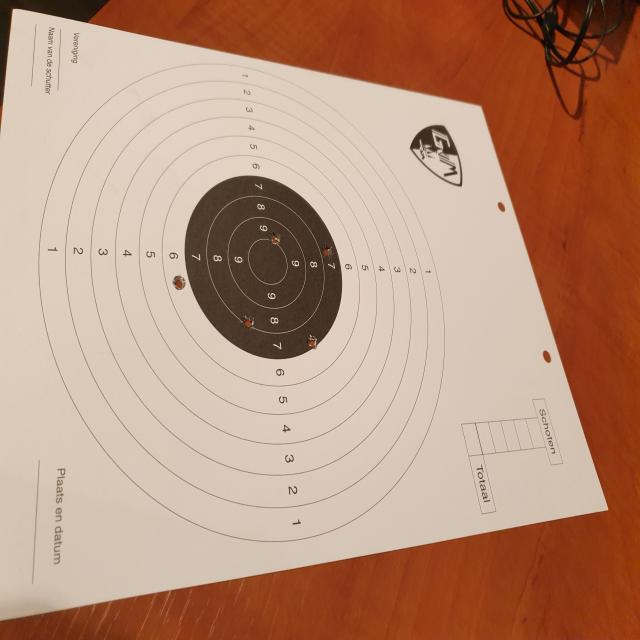10: (267, 229, 281, 246)
6: (172, 275, 186, 291)
7: (320, 243, 335, 260), (305, 333, 319, 351)
8: (240, 312, 256, 331)
Target: (36, 60, 448, 544)
black_contour: (185, 175, 343, 359)
